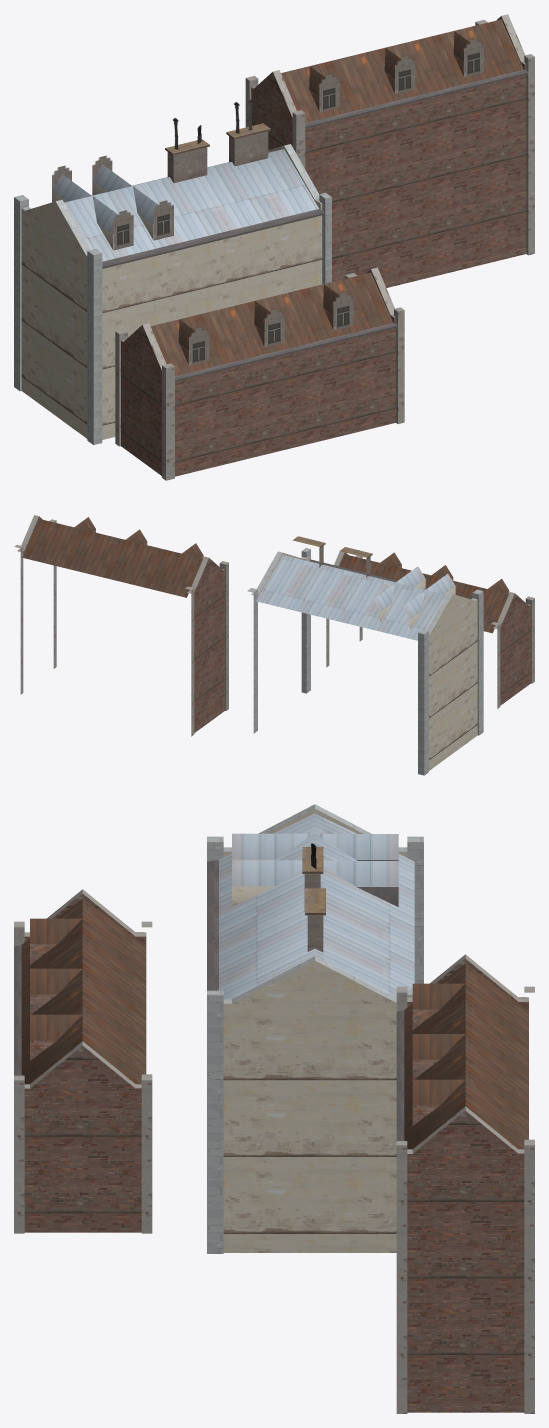
3 renders of one model, top to bottom at view 1: azimuth 30°, elevation 25°; view 2: azimuth 150°, elevation 25°; view 3: azimuth 270°, elevation 25°, orthographic. The views are drawn at different scales.
Visible parts, largest first — view 1: body0_model0_lod0_mesh0, body0_model0_lod0_mesh5, body0_model0_lod0_mesh1, body0_model0_lod0_mesh6, body0_model0_lod0_mesh2, body0_model0_lod0_mesh7, body0_model0_lod0_mesh4, body0_model0_lod0_mesh3, body0_model0_lod0_mesh8; view 2: body0_model0_lod0_mesh1, body0_model0_lod0_mesh6, body0_model0_lod0_mesh0, body0_model0_lod0_mesh5, body0_model0_lod0_mesh7, body0_model0_lod0_mesh2, body0_model0_lod0_mesh8; view 3: body0_model0_lod0_mesh0, body0_model0_lod0_mesh5, body0_model0_lod0_mesh1, body0_model0_lod0_mesh6, body0_model0_lod0_mesh2, body0_model0_lod0_mesh7, body0_model0_lod0_mesh3, body0_model0_lod0_mesh8.
Part boxes in pixels (<box>): body0_model0_lod0_mesh0: <box>121,16,526,476</box>; body0_model0_lod0_mesh5: <box>21,145,322,439</box>; body0_model0_lod0_mesh1: <box>150,19,523,375</box>; body0_model0_lod0_mesh6: <box>52,149,318,261</box>; body0_model0_lod0_mesh2: <box>115,14,534,480</box>; body0_model0_lod0_mesh7: <box>14,144,331,444</box>; body0_model0_lod0_mesh4: <box>52,38,483,365</box>; body0_model0_lod0_mesh3: <box>102,69,528,381</box>; body0_model0_lod0_mesh8: <box>165,123,270,182</box>; body0_model0_lod0_mesh1: <box>22,517,509,633</box>; body0_model0_lod0_mesh6: <box>256,555,455,640</box>; body0_model0_lod0_mesh0: <box>23,516,530,732</box>; body0_model0_lod0_mesh5: <box>258,552,477,770</box>; body0_model0_lod0_mesh7: <box>247,548,483,775</box>; body0_model0_lod0_mesh2: <box>14,515,534,736</box>; body0_model0_lod0_mesh8: <box>292,536,372,577</box>; body0_model0_lod0_mesh0: <box>24,894,528,1412</box>; body0_model0_lod0_mesh5: <box>223,809,407,1252</box>; body0_model0_lod0_mesh1: <box>21,898,528,1149</box>; body0_model0_lod0_mesh6: <box>219,813,414,999</box>; body0_model0_lod0_mesh2: <box>14,889,534,1413</box>; body0_model0_lod0_mesh7: <box>207,804,423,1253</box>; body0_model0_lod0_mesh3: <box>14,860,404,1140</box>; body0_model0_lod0_mesh8: <box>302,847,325,952</box>.
Bounding box in the file's own units: 152 × 76.65 × 98.5.
Materials: 11 (11 with a texture image).
